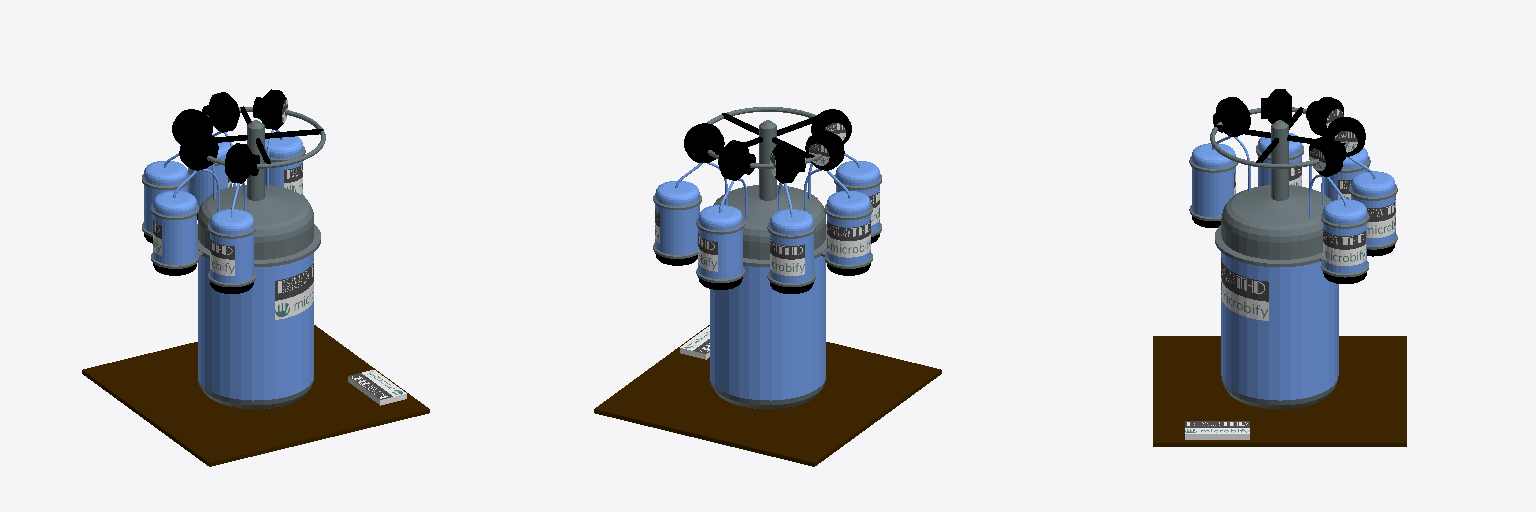
The picture shows the model from 3 angles: view 1: azimuth 30°, elevation 25°; view 2: azimuth 150°, elevation 25°; view 3: azimuth 270°, elevation 25°; orthographic projection.
Parts seen in each view (by area): view 1: Cube.001_Cube.008; view 2: Cube.001_Cube.008; view 3: Cube.001_Cube.008.
Boxes of the visible parts, x1,y1,x2,y2 form: Cube.001_Cube.008: [82, 89, 429, 466]; Cube.001_Cube.008: [594, 107, 941, 466]; Cube.001_Cube.008: [1153, 89, 1406, 446].
Bounding box in the file's own units: 8.01 × 9.54 × 8.01.
Materials: 1 (1 with a texture image).